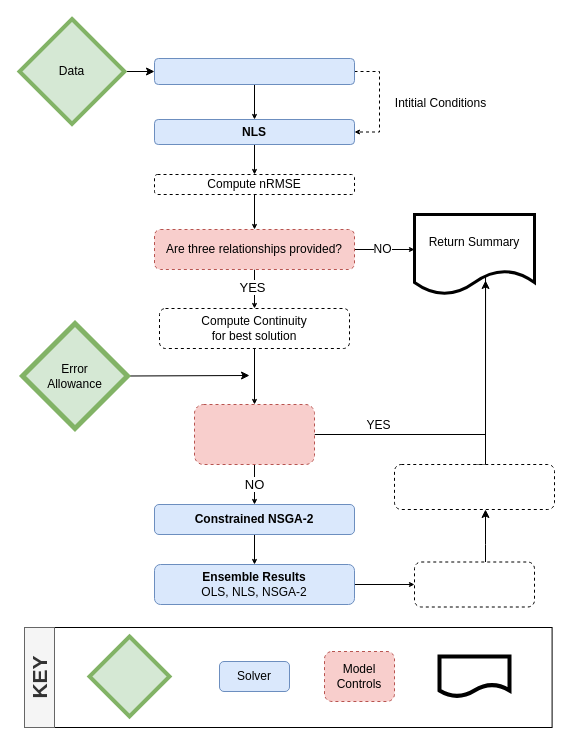
This 572x745 diagram has some shape labels left out. The shapes that lost their labels are listed below. From the top down, each one's box as (x1, y1, x2, y2) in pixels, then its label:
(154, 58, 354, 84): OLS
(194, 404, 314, 464): Is continuity met within allowance?
(394, 464, 554, 510): Select process with minimal error and continuity
(414, 561, 534, 607): Compute Continuty
(87, 634, 171, 718): User Input
(437, 654, 511, 698): output
